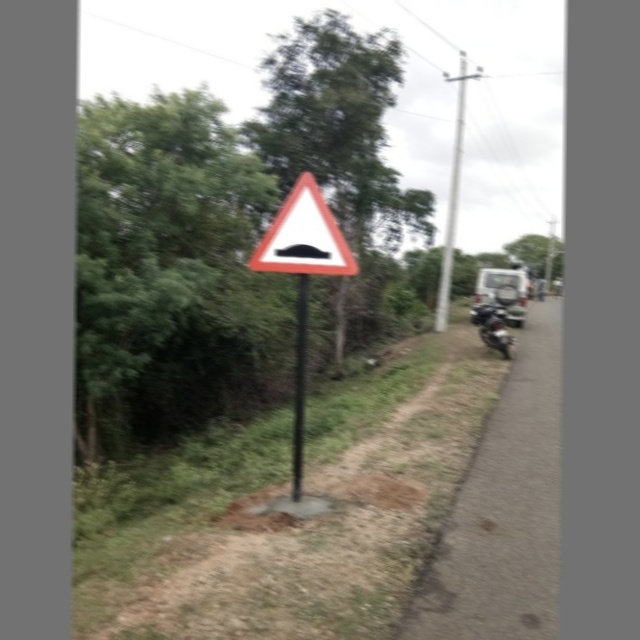Dangerous_Dip: (246, 171, 360, 274)
